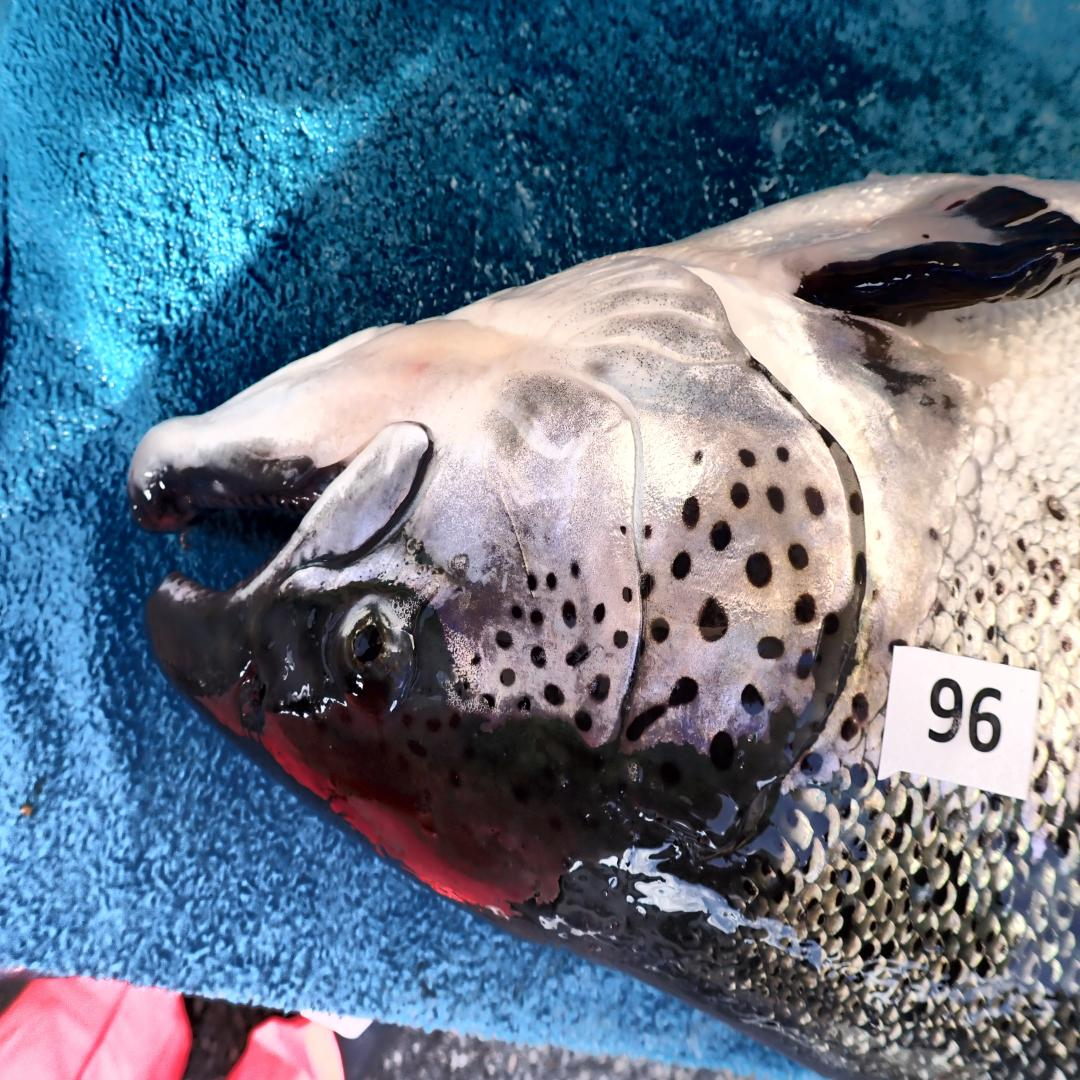spot: (626, 706, 667, 742), (698, 596, 728, 642), (709, 731, 734, 771), (746, 551, 772, 588), (669, 677, 698, 706), (740, 683, 764, 715), (681, 496, 701, 529), (711, 520, 732, 551), (795, 593, 816, 624), (757, 636, 785, 658), (589, 674, 610, 703), (671, 551, 692, 579), (565, 644, 589, 667), (789, 543, 808, 571), (806, 487, 825, 515), (797, 650, 814, 679), (544, 683, 565, 706), (454, 679, 475, 702), (768, 487, 785, 515), (730, 484, 749, 509), (650, 619, 669, 644), (639, 572, 656, 598), (574, 711, 593, 732), (561, 601, 576, 627), (854, 553, 866, 584), (531, 647, 546, 670), (738, 447, 755, 467), (496, 630, 513, 650), (823, 613, 839, 634), (849, 492, 863, 515), (614, 630, 629, 649), (593, 603, 605, 625), (500, 669, 515, 686), (517, 695, 532, 712), (529, 610, 544, 624), (510, 605, 523, 621), (622, 586, 633, 603), (546, 573, 557, 590), (527, 574, 538, 591), (776, 447, 789, 461), (570, 562, 580, 577), (483, 695, 496, 706), (694, 450, 703, 465), (472, 653, 482, 666), (645, 526, 652, 539), (620, 526, 626, 535)
